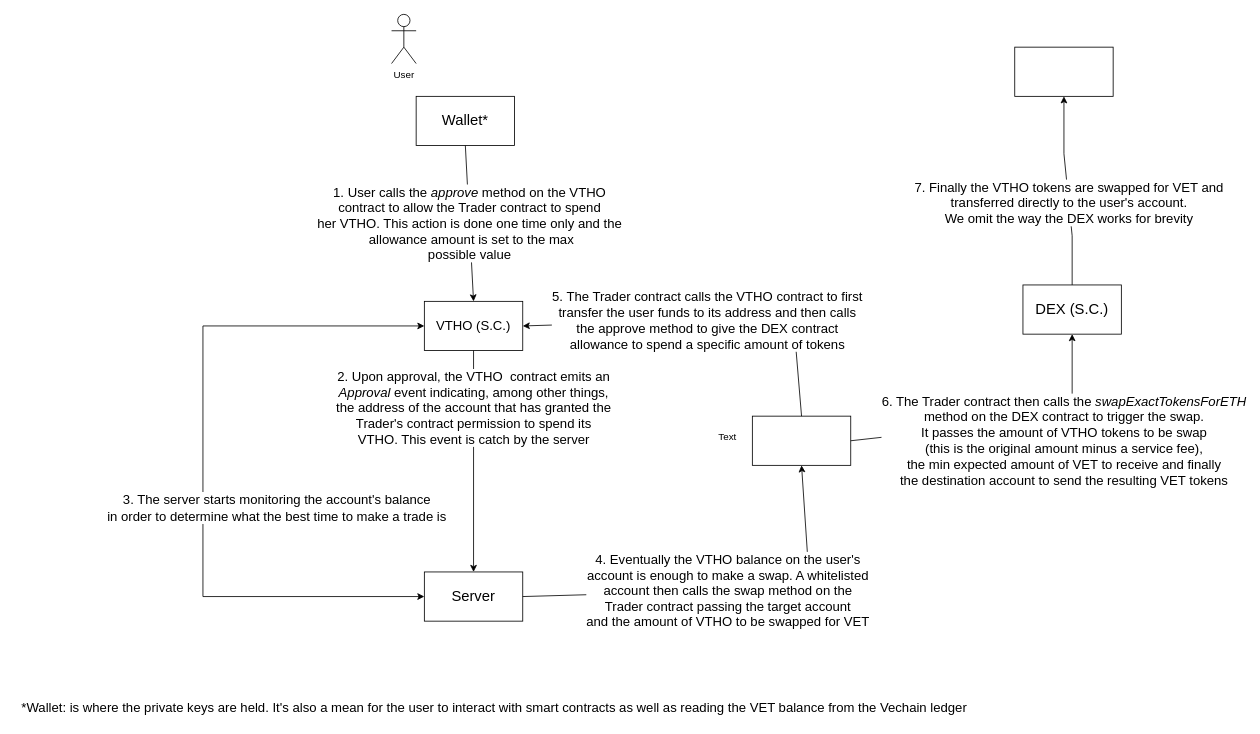
Image size: 1260x734. Some labels were removed from this diagram. Each missing label, with the centre of its shape:
Trader (S.C.): (x=801, y=440)
Vechain ledger: (x=1063, y=71)
